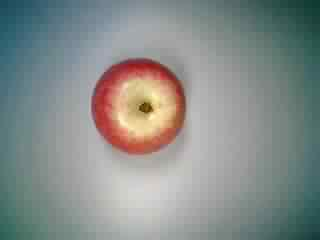apple: (84, 56, 188, 160)
